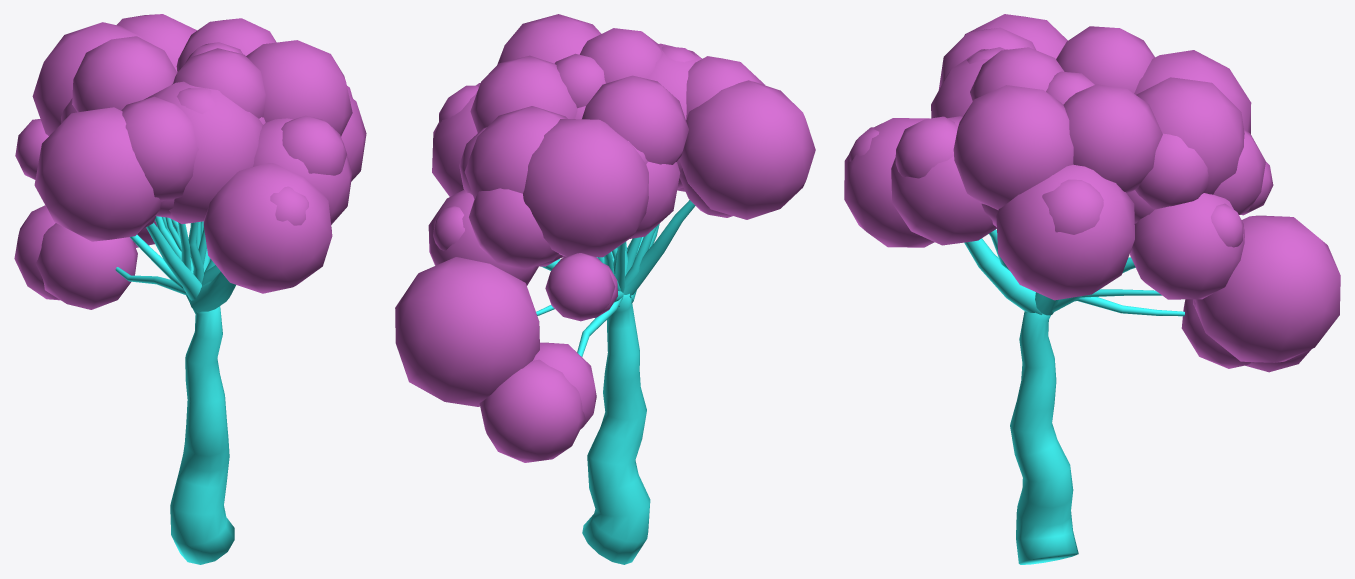
File: MaddisonTree.fbx
3 views of the same model, side by side, from view 1: azimuth 30°, elevation 25°; view 2: azimuth 150°, elevation 25°; view 3: azimuth 270°, elevation 25° (orthographic).
Parts seen in each view (by area): view 1: merge1; view 2: merge1; view 3: merge1.
Part boxes in pixels (box(x1,y1,x2,y2)): merge1: box(14, 14, 366, 564); merge1: box(395, 14, 815, 564); merge1: box(844, 14, 1340, 564).
Bounding box in the file's own units: 17.49 × 25.41 × 21.95.
